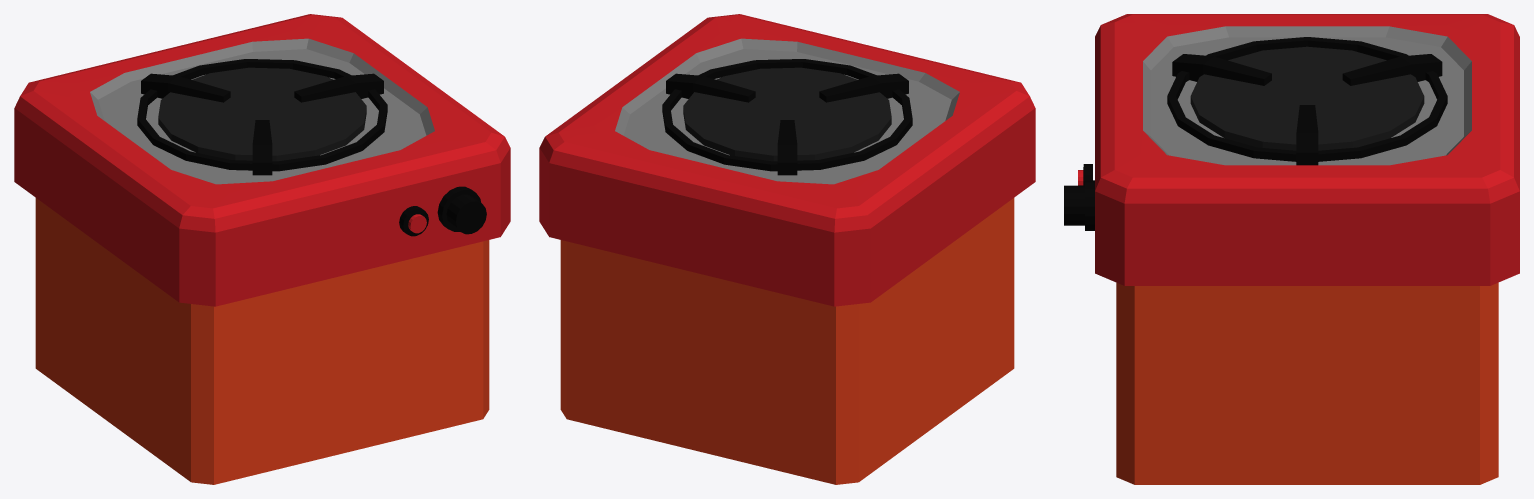
The model's file is GasStove 1.fbx.
3 views of the same model, side by side, from view 1: azimuth 30°, elevation 25°; view 2: azimuth 150°, elevation 25°; view 3: azimuth 270°, elevation 25° (orthographic). The views are drawn at different scales.
Visible parts, largest first — view 1: GasStove; view 2: GasStove; view 3: GasStove.
Boxes of the visible parts, x1,y1,x2,y2 form: GasStove: (14,14,510,484); GasStove: (539,14,1035,484); GasStove: (1064,14,1519,484).
Size of the model in its own units: 100 by 83 by 107.
